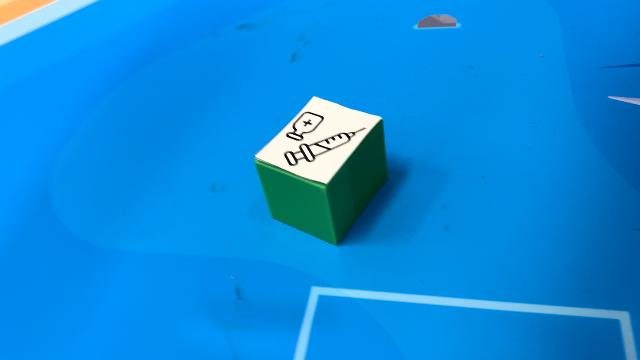syringe: (252, 95, 388, 245)
